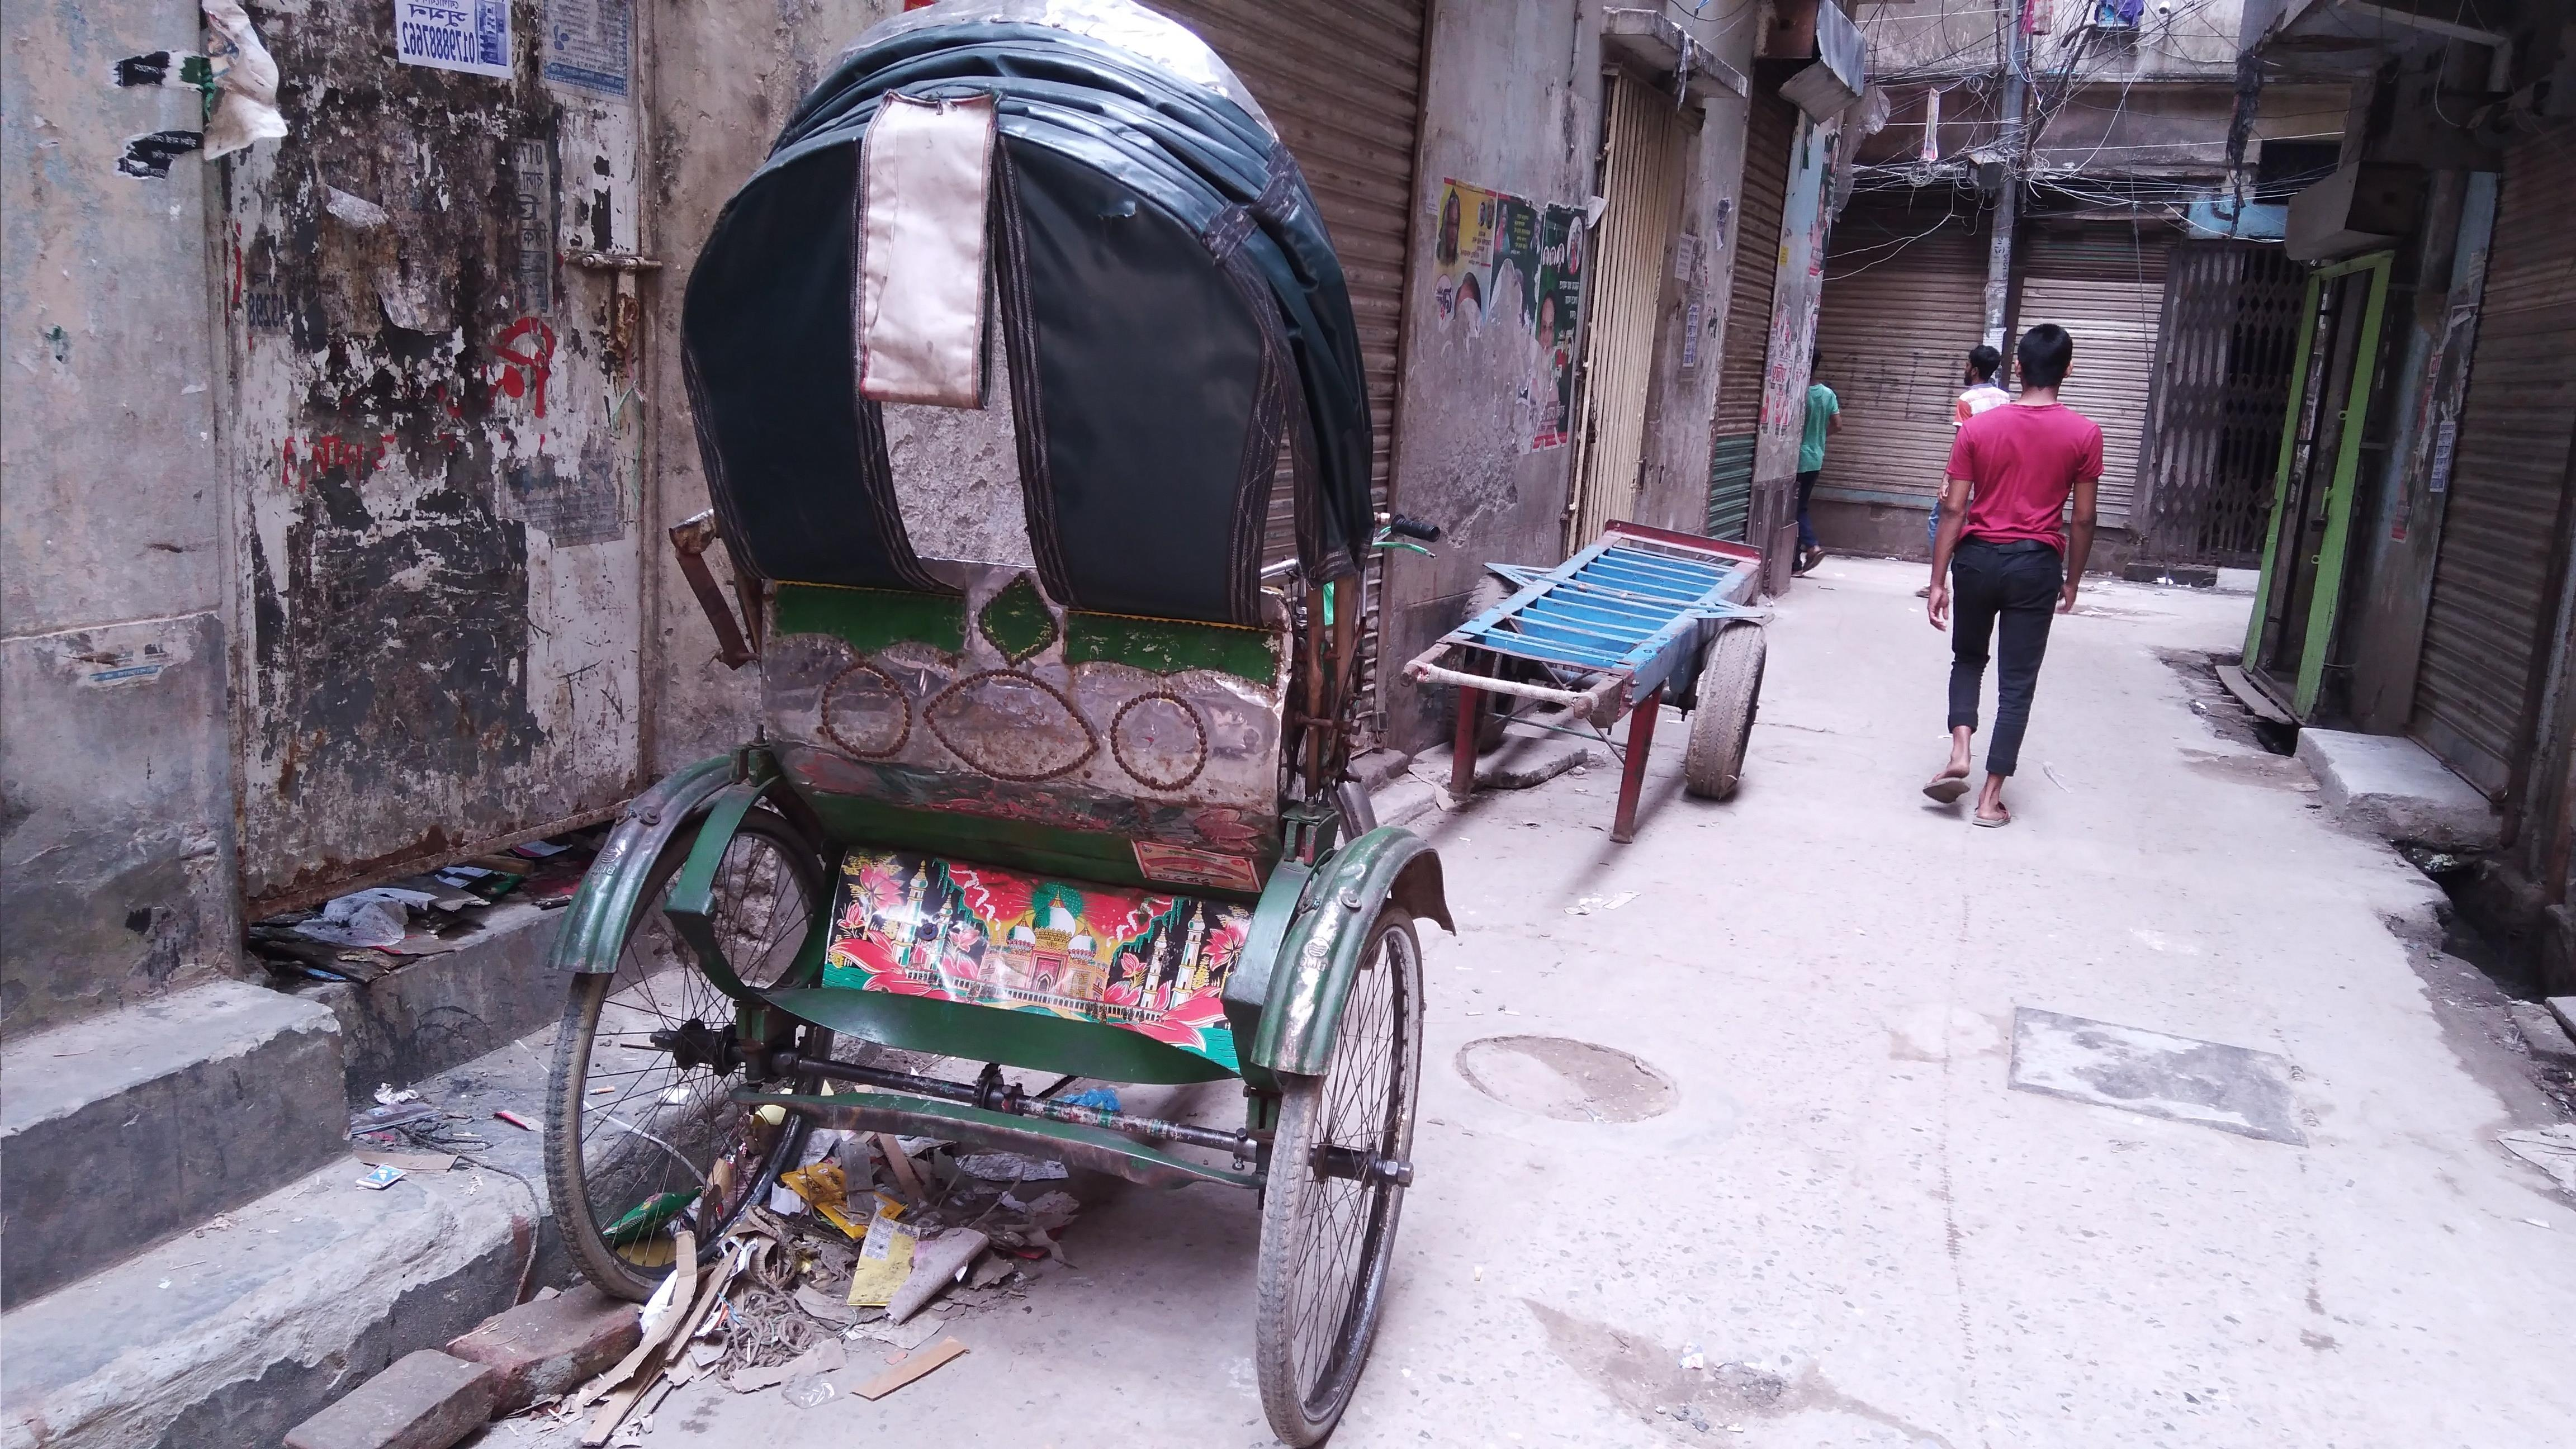Rickshaw: (554, 7, 1486, 1445)
